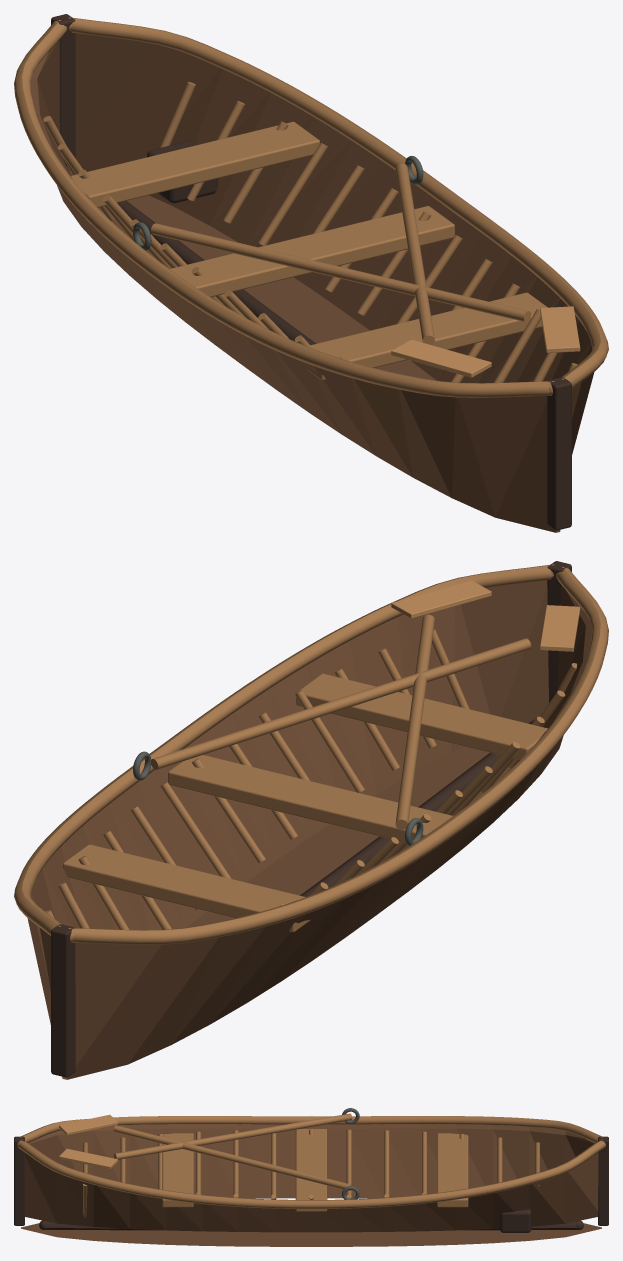
Rendered from detail_rowboat.glb.
3 renders of one model, top to bottom at view 1: azimuth 30°, elevation 25°; view 2: azimuth 150°, elevation 25°; view 3: azimuth 270°, elevation 25°, orthographic. The views are drawn at different scales.
Visible parts, largest first — view 1: wood, metal; view 2: wood, metal; view 3: wood, metal.
Part boxes in pixels (x1,y1,x2,y2): wood: [14, 14, 608, 532]; metal: [133, 156, 580, 377]; wood: [14, 561, 608, 1079]; metal: [133, 580, 580, 845]; wood: [14, 1113, 608, 1246]; metal: [59, 1108, 359, 1199].
Size of the model in its own units: 1.4 by 0.7 by 4.
